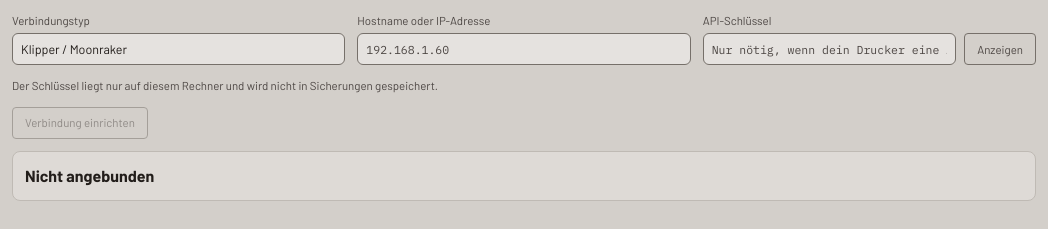
PrinterConnectionSection › explains the error timeout
Type "10.0.0.9" into the field labelled "Hostname oder IP-Adresse" at (524, 49), box [357,33,691,65]
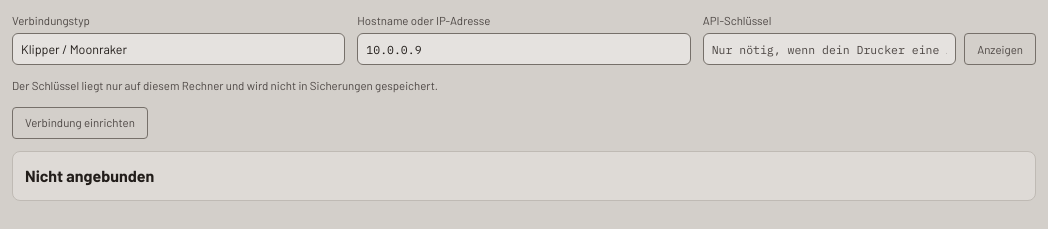
Click the button "Verbindung einrichten" at (80, 122), box [12,106,148,138]
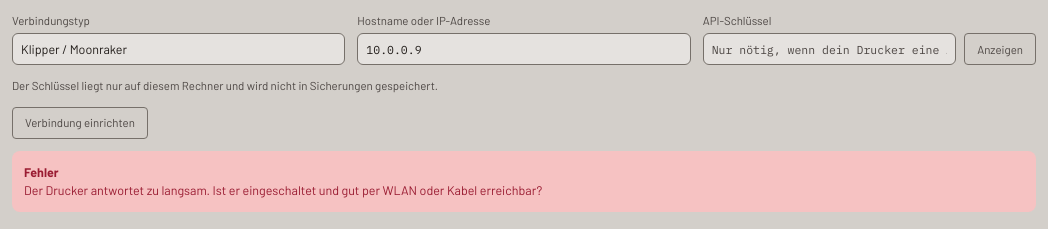
Now the text "antwortet zu langsam" is shown, box [24,182,542,198]
